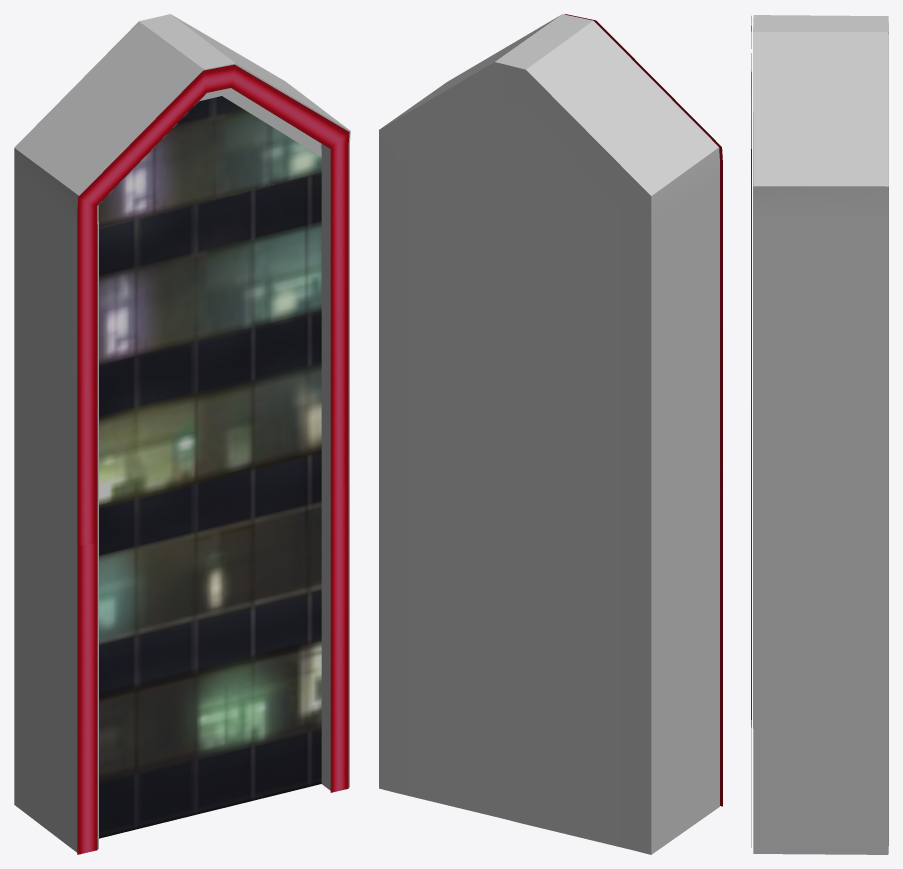
Rendered from hirise_side_01a.fbx.
The picture shows the model from 3 angles, left to right: view 1: azimuth 30°, elevation 25°; view 2: azimuth 150°, elevation 25°; view 3: azimuth 270°, elevation 25°; orthographic projection.
Parts seen in each view (by area): view 1: hirise_side_01a; view 2: hirise_side_01a; view 3: hirise_side_01a.
Boxes of the visible parts, x1,y1,x2,y2 form: hirise_side_01a: (14, 14, 350, 854); hirise_side_01a: (379, 14, 722, 854); hirise_side_01a: (751, 15, 888, 854).
Size of the model in its own units: 6.04 by 15.77 by 2.57.
